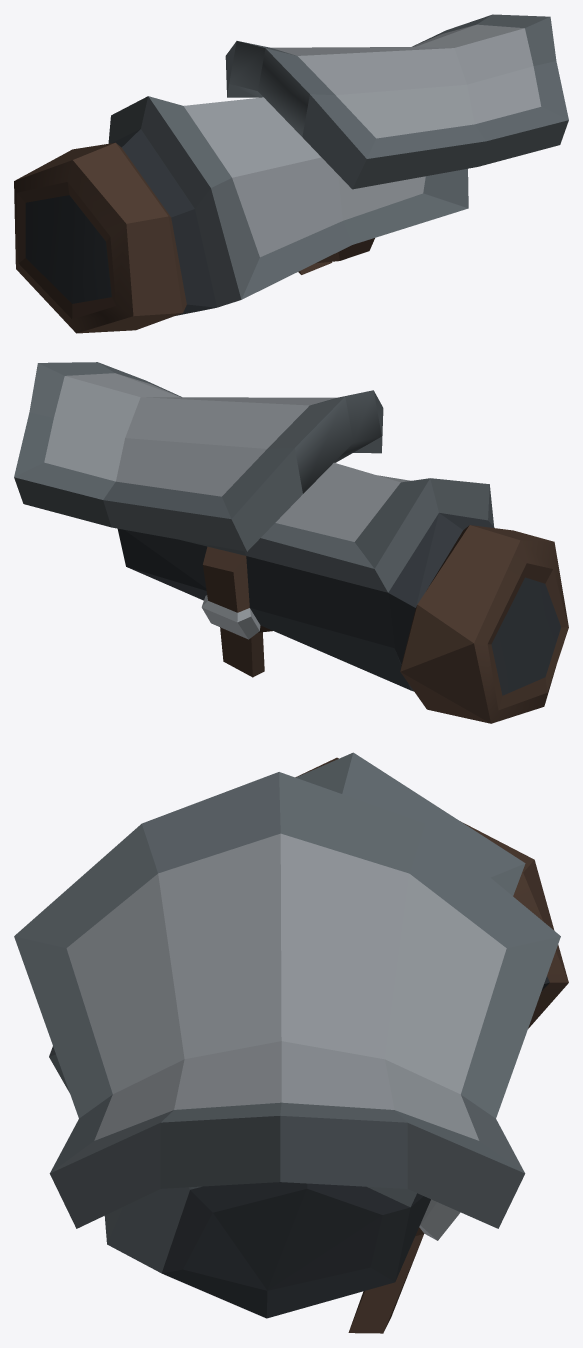
The model's file is Chr_ArmLowerLeft_Male_11_Static.fbx.
The picture shows the model from 3 angles, top to bottom: view 1: azimuth 30°, elevation 25°; view 2: azimuth 150°, elevation 25°; view 3: azimuth 270°, elevation 25°; orthographic projection. The views are drawn at different scales.
Parts seen in each view (by area): view 1: Chr_ArmLowerLeft_Male_11_Static; view 2: Chr_ArmLowerLeft_Male_11_Static; view 3: Chr_ArmLowerLeft_Male_11_Static.
Part boxes in pixels (x1,y1,x2,y2): Chr_ArmLowerLeft_Male_11_Static: (14, 14, 568, 333); Chr_ArmLowerLeft_Male_11_Static: (14, 362, 568, 723); Chr_ArmLowerLeft_Male_11_Static: (14, 752, 568, 1333).
Size of the model in its own units: 0.3674 by 0.1863 by 0.1899.
